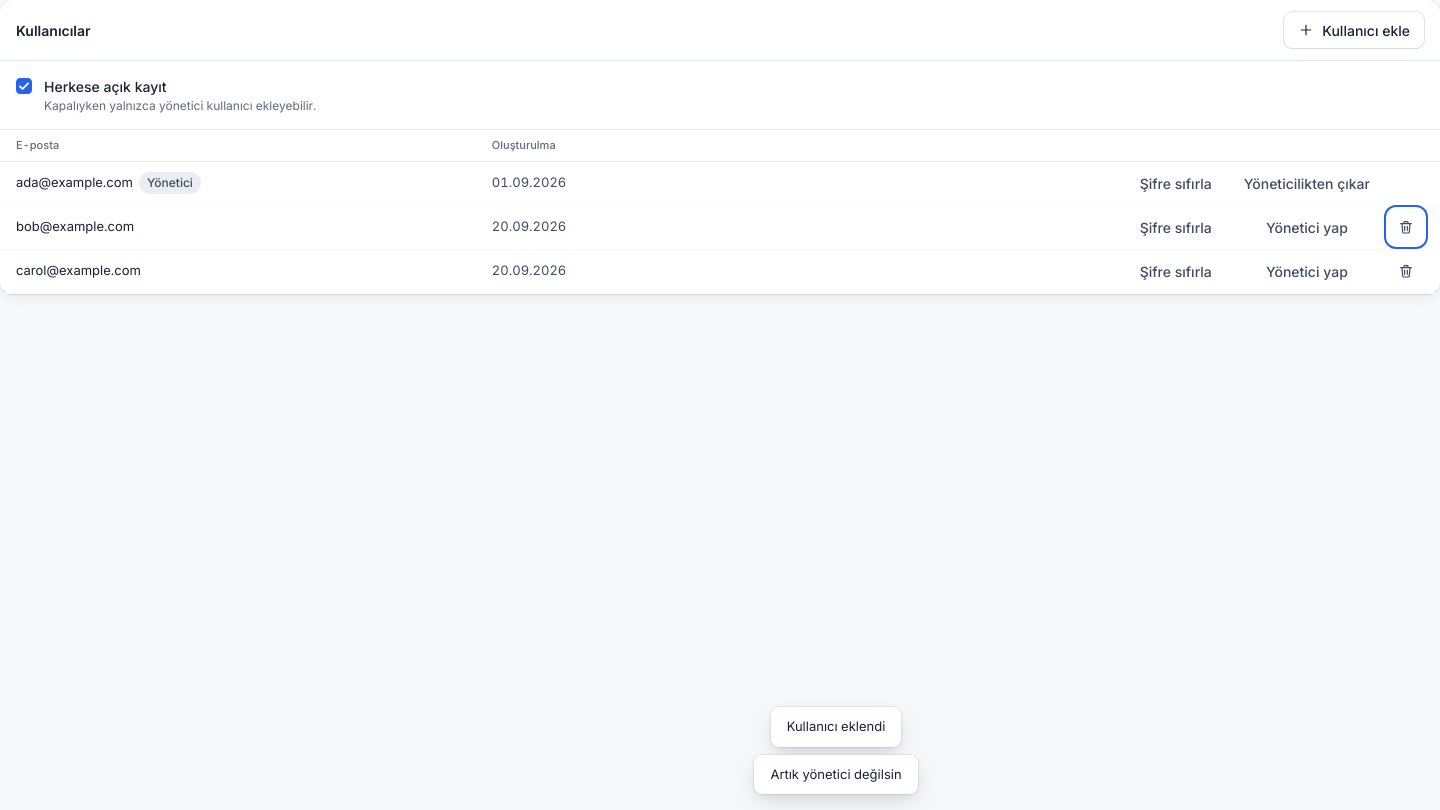
UsersSection › moves focus to a neighbouring delete button, else the heading, after a delete
Step 1. Click the button named "bob@example.com kullanıcısını sil" → (1406, 227), box [1388,209,1424,245]
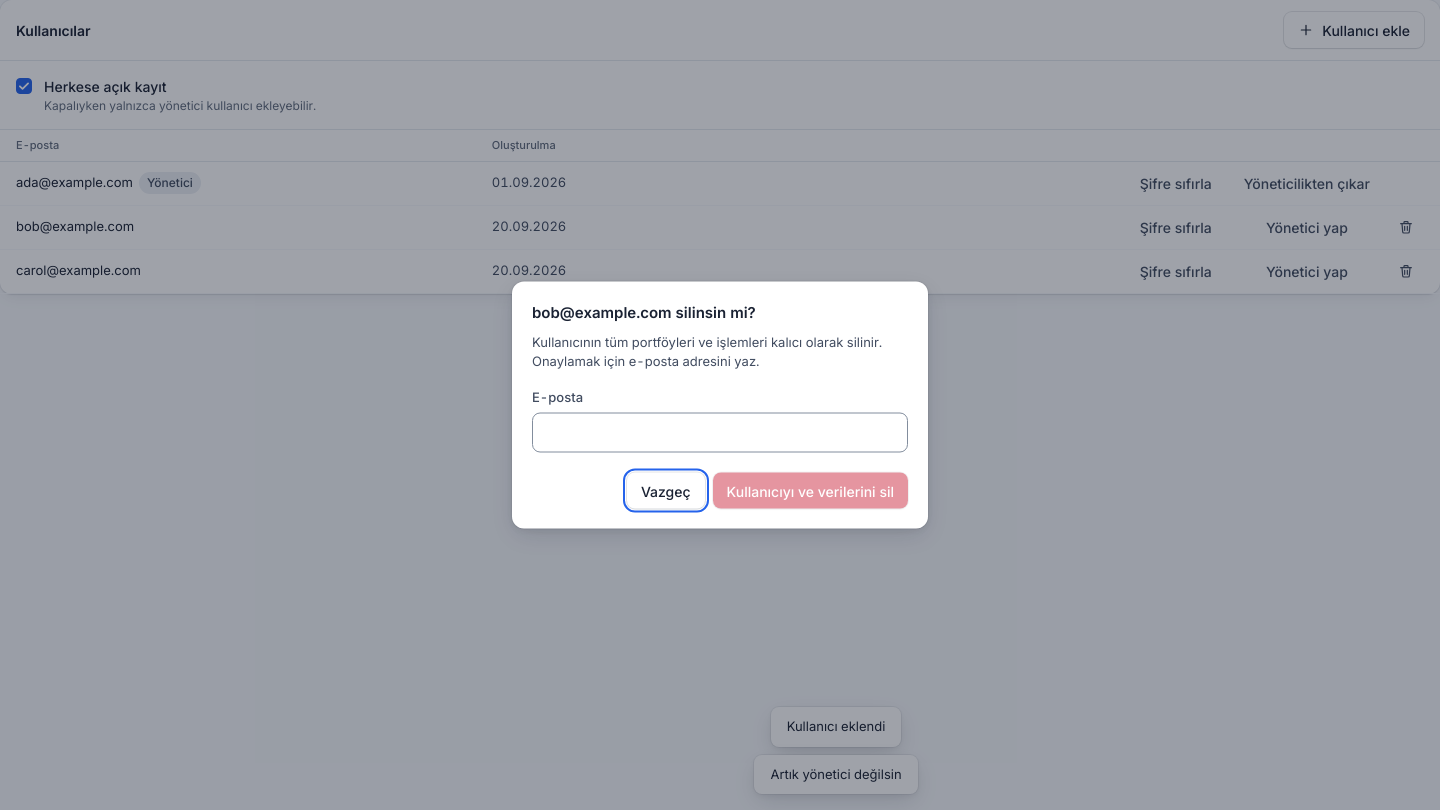
Step 2. Type "bob@example.com" into the field labelled "E-posta" → (720, 432), box [532,412,908,452]
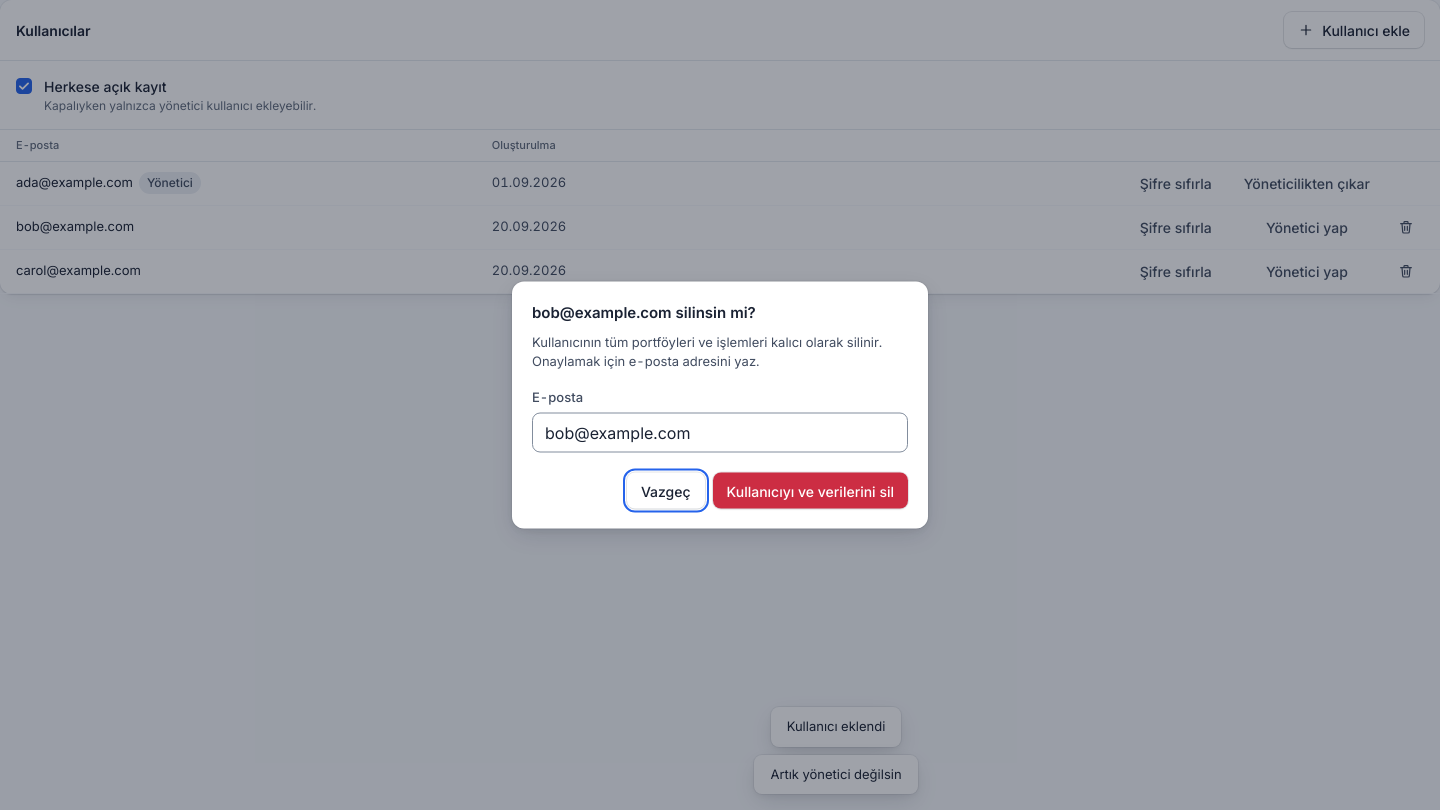
Step 3. Click the button "Kullanıcıyı ve verilerini sil" → (810, 490), box [713,472,908,508]
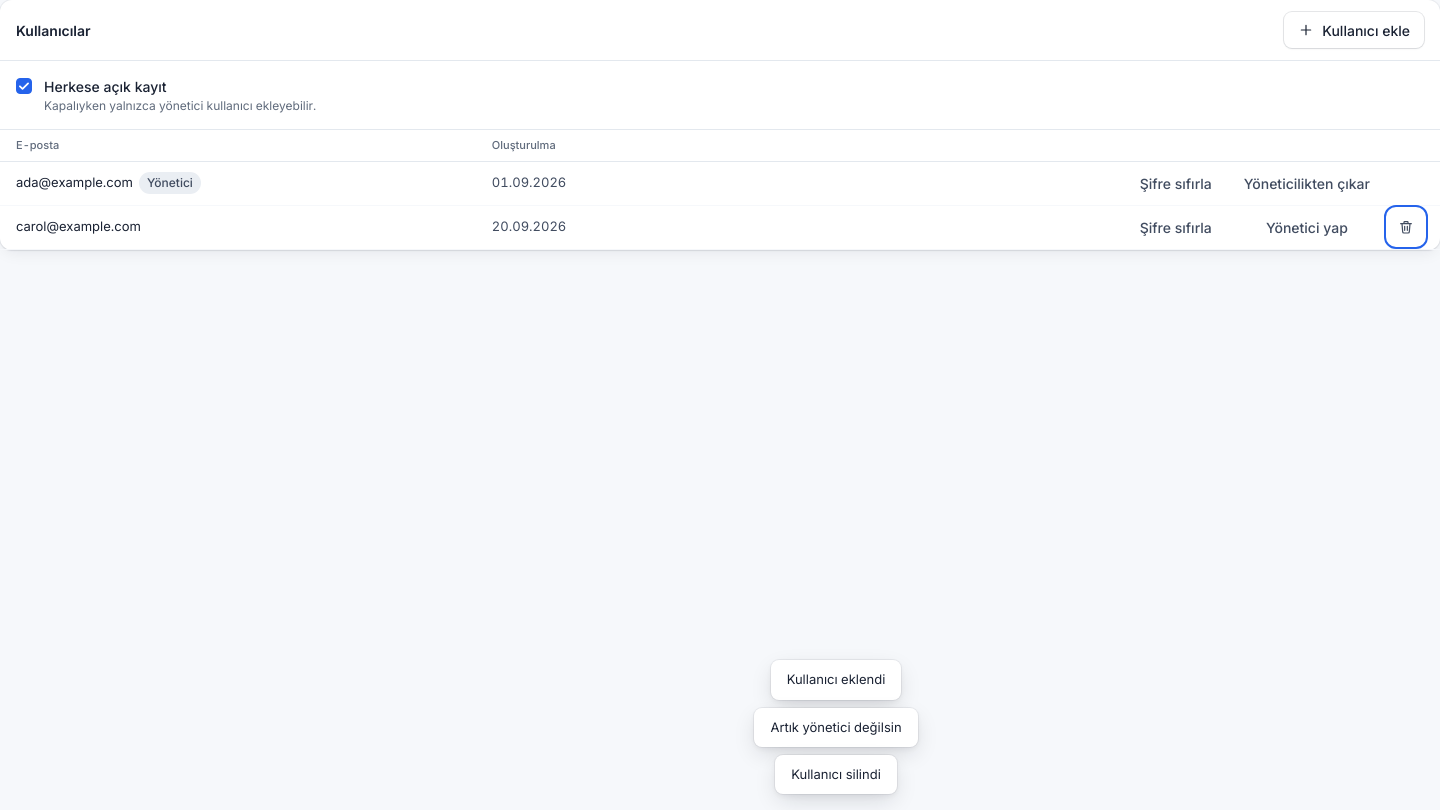
Now the text "bob@example.com" is gone
Step 4. Click the button named "carol@example.com kullanıcısını sil" → (1406, 227), box [1388,209,1424,245]
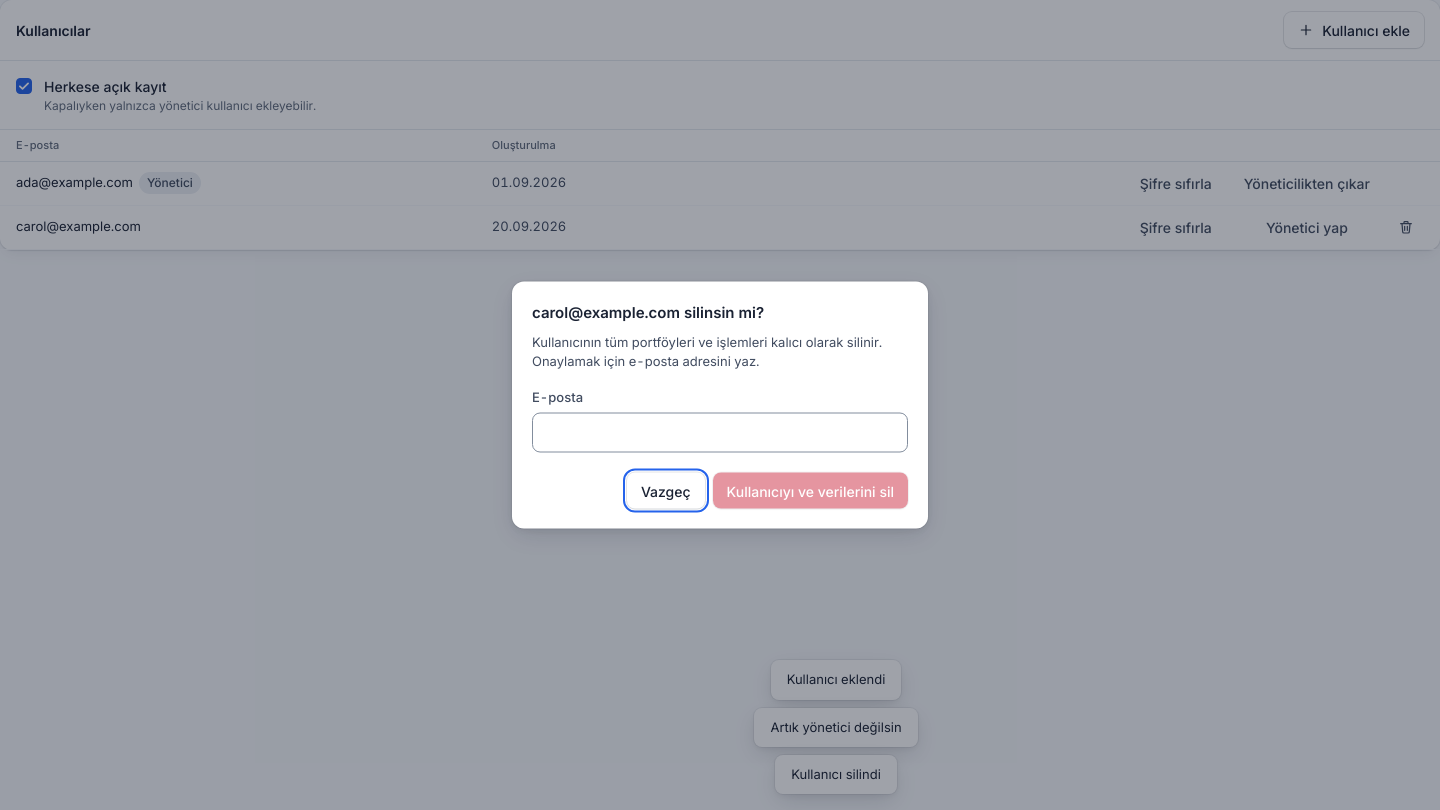
Step 5. Type "carol@example.com" into the field labelled "E-posta" → (720, 432), box [532,412,908,452]
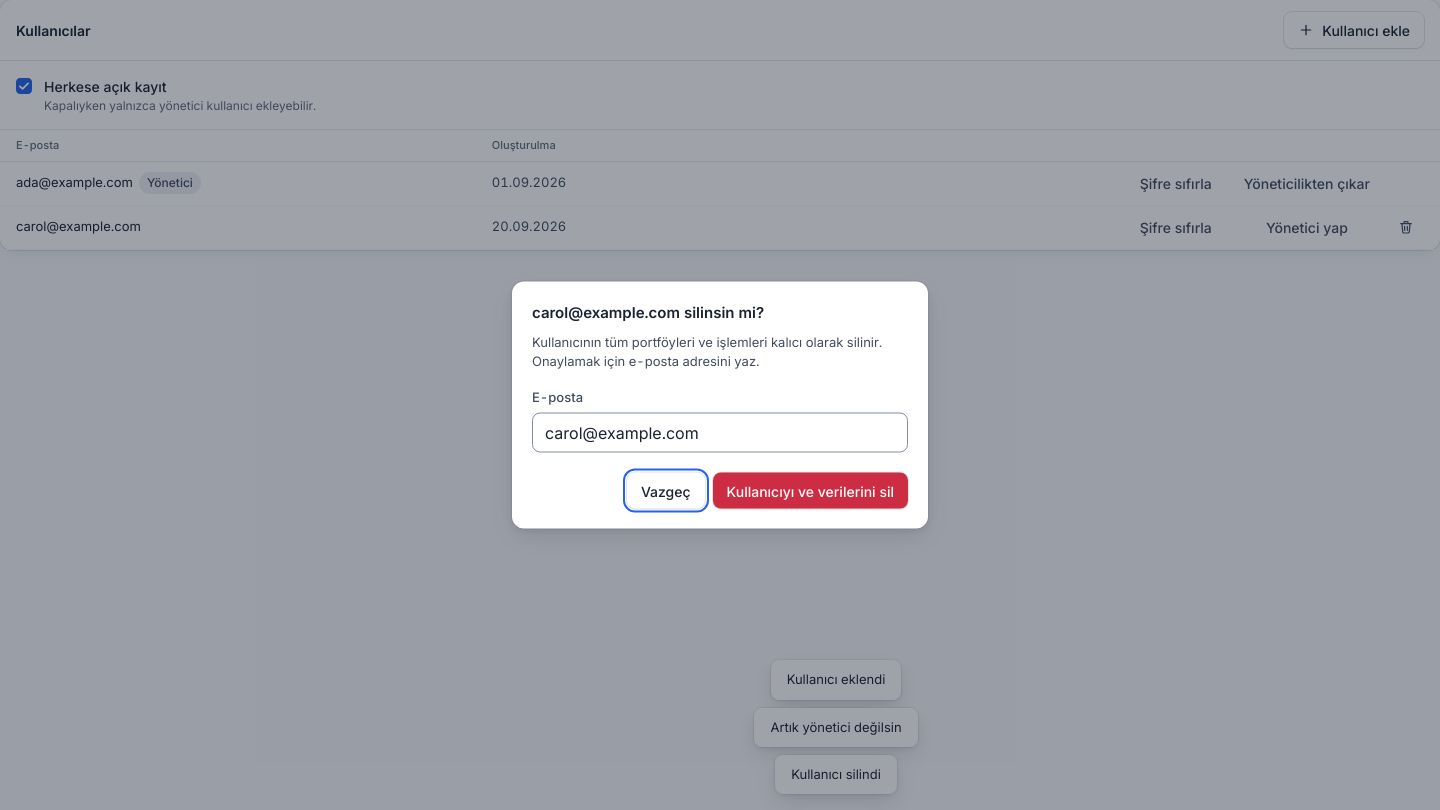
Step 6. Click the button "Kullanıcıyı ve verilerini sil" → (810, 490), box [713,472,908,508]
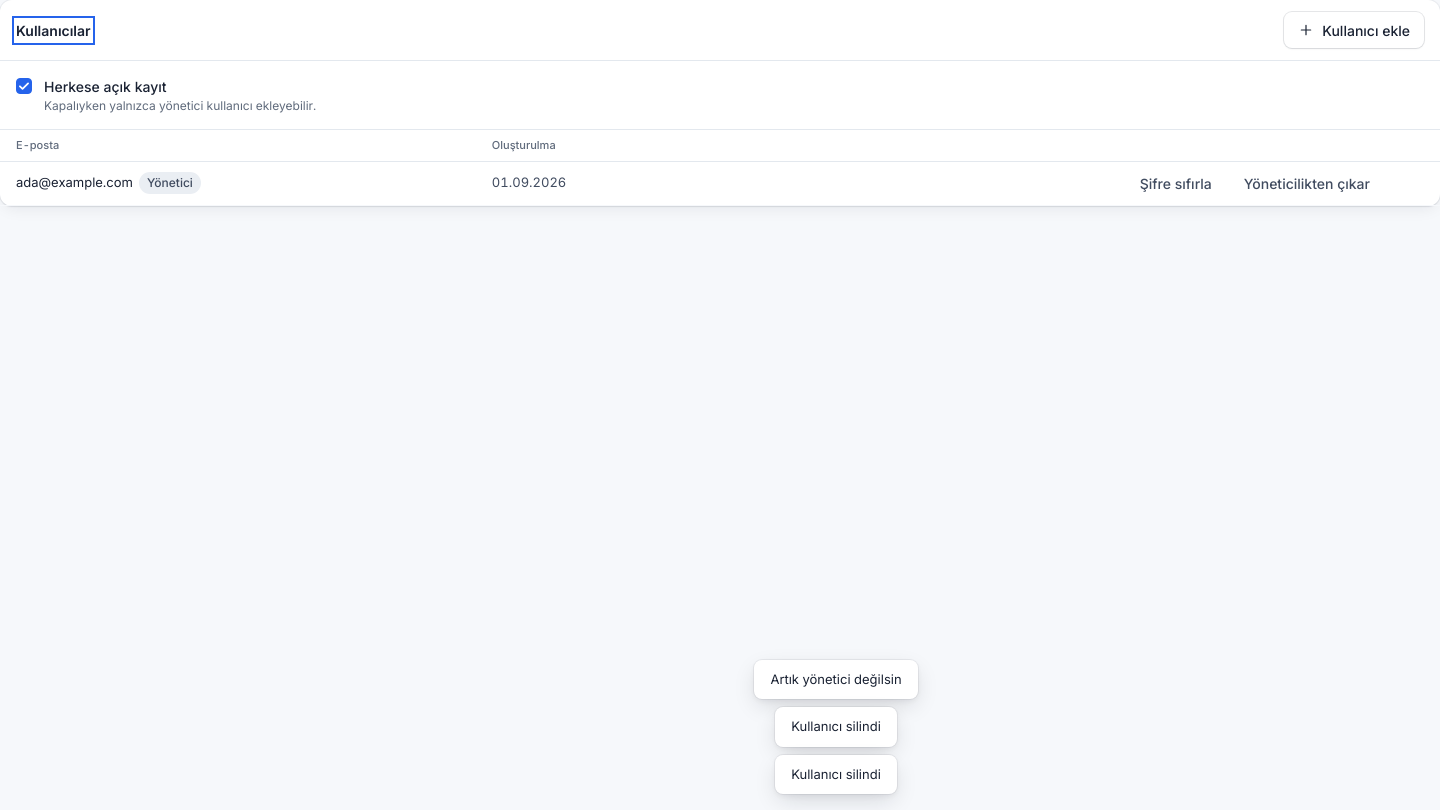
Now the text "carol@example.com" is gone
